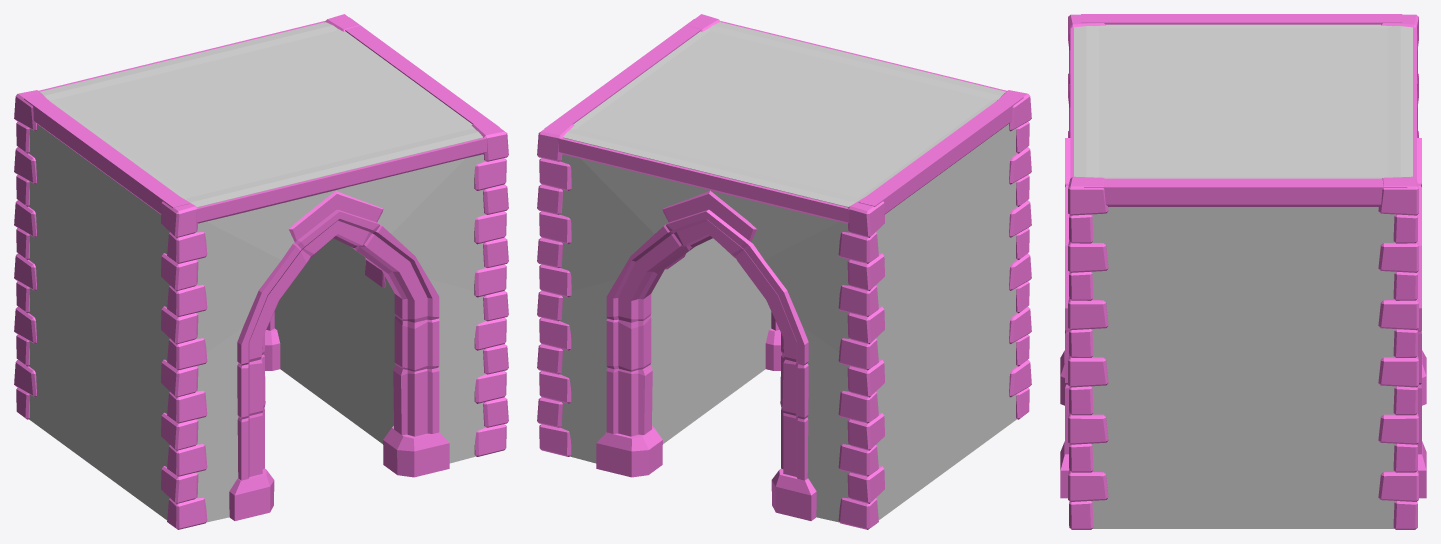
Rendered from SM_Gate_Bottom_Small_Fantasy.fbx.
The picture shows the model from 3 angles, left to right: view 1: azimuth 30°, elevation 25°; view 2: azimuth 150°, elevation 25°; view 3: azimuth 270°, elevation 25°; orthographic projection. The views are drawn at different scales.
Parts seen in each view (by area): view 1: SM_Gate_Bottom_Small_Fantasy; view 2: SM_Gate_Bottom_Small_Fantasy; view 3: SM_Gate_Bottom_Small_Fantasy.
Part boxes in pixels (x1,y1,x2,y2): SM_Gate_Bottom_Small_Fantasy: [14, 14, 508, 529]; SM_Gate_Bottom_Small_Fantasy: [537, 14, 1031, 529]; SM_Gate_Bottom_Small_Fantasy: [1060, 14, 1426, 529].
Bounding box in the file's own units: 6.61 × 6.04 × 5.83.
